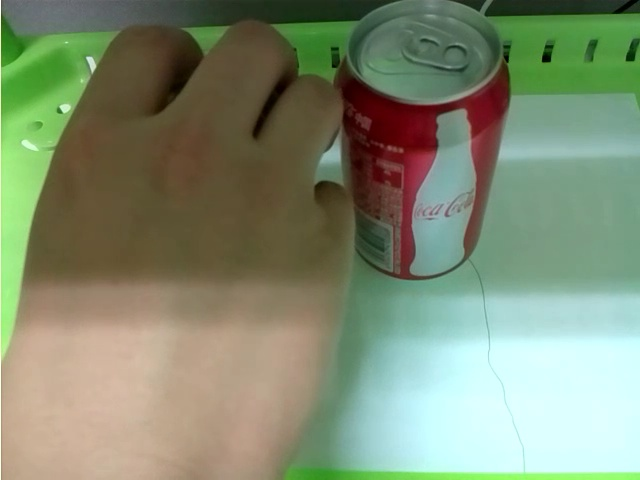cocacola: (346, 3, 510, 283)
hand: (4, 19, 356, 480)
